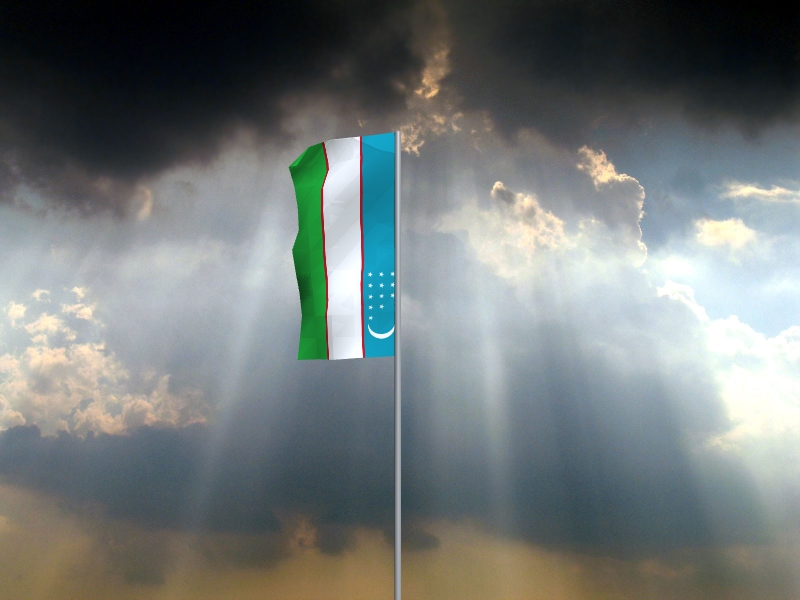uz: (288, 133, 396, 362)
